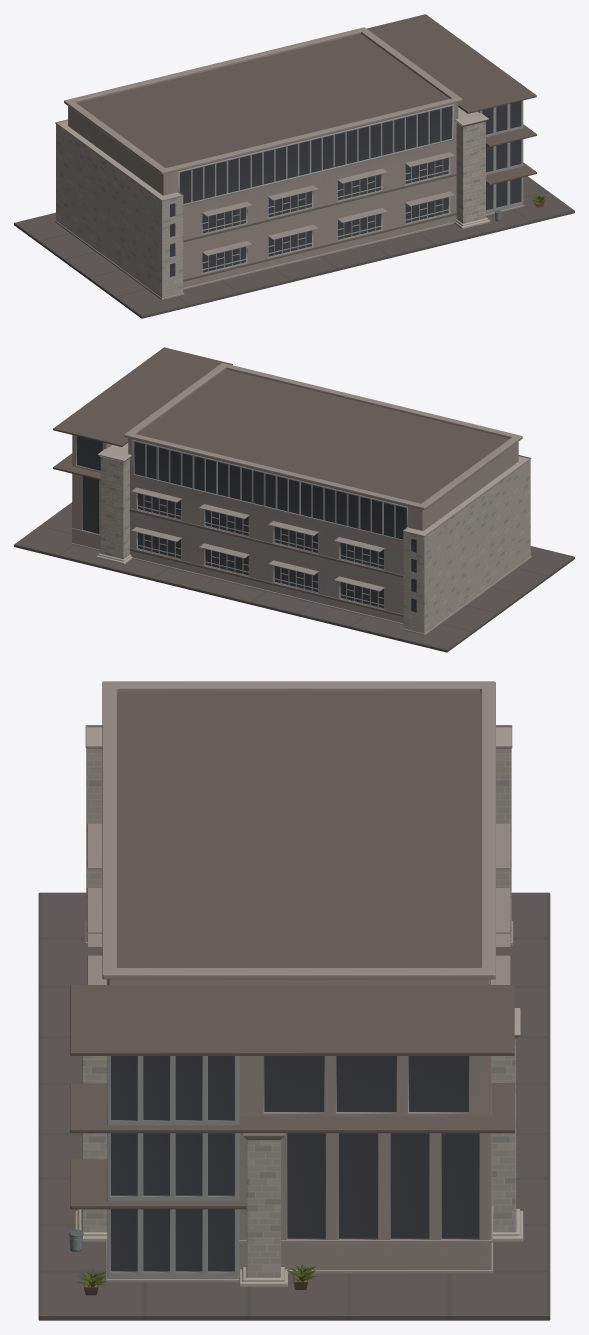
Rendered from Office.fbx.
The picture shows the model from 3 angles, top to bottom: view 1: azimuth 30°, elevation 25°; view 2: azimuth 150°, elevation 25°; view 3: azimuth 270°, elevation 25°; orthographic projection. The views are drawn at different scales.
Parts seen in each view (by area): view 1: node_id30; view 2: node_id30; view 3: node_id30.
Boxes of the visible parts, left/top/right/bottom form: node_id30: left=14, top=14, right=574, bottom=318; node_id30: left=14, top=347, right=574, bottom=652; node_id30: left=38, top=681, right=550, bottom=1320.
Bounding box in the file's own units: 0.512 × 0.1424 × 0.2617.
1 material, 1 textured.
